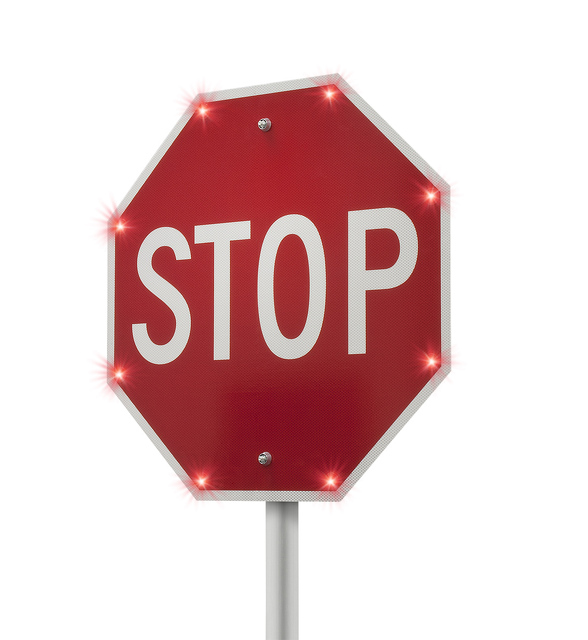stopsign: (109, 71, 449, 502)
